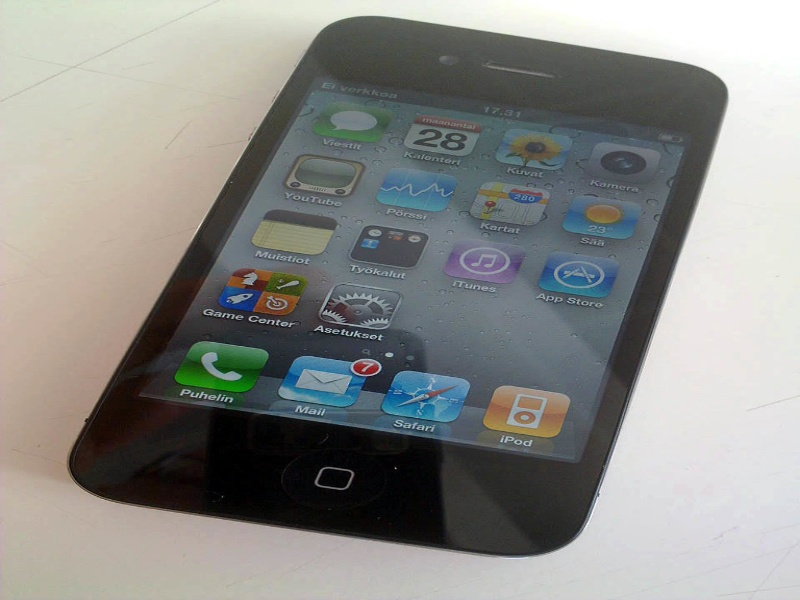cellphone: (93, 11, 740, 578)
